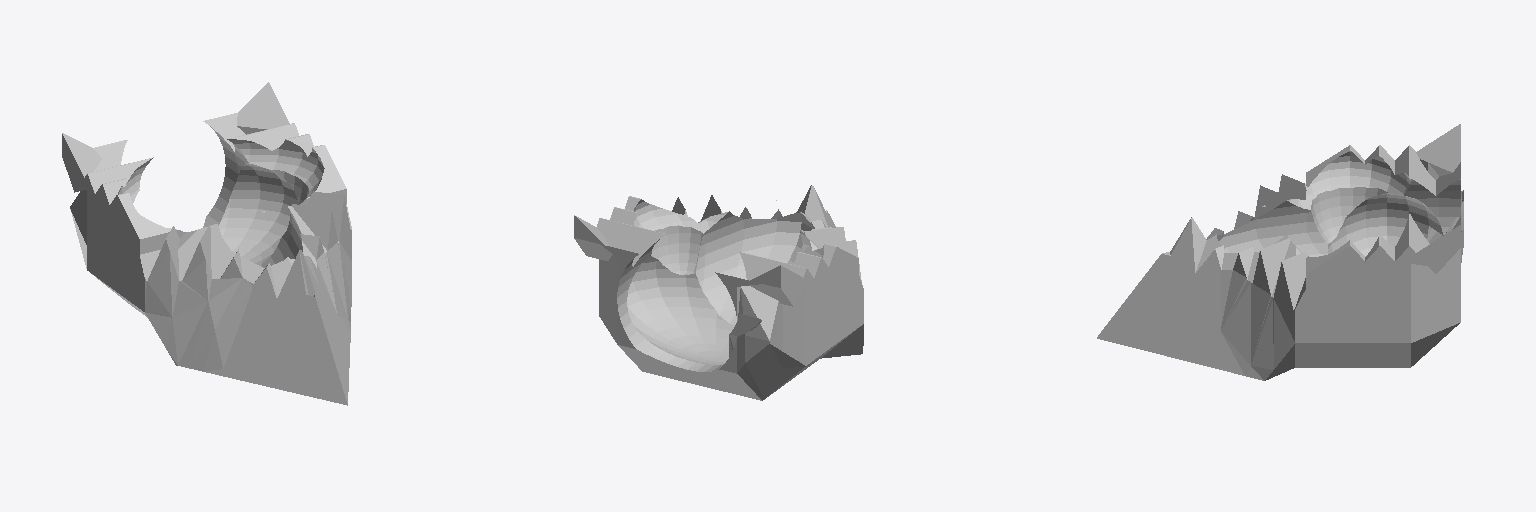
The model's file is e_head2.obj.
3 renders of one model, left to right at view 1: azimuth 30°, elevation 25°; view 2: azimuth 150°, elevation 25°; view 3: azimuth 270°, elevation 25°, orthographic.
Parts seen in each view (by area): view 1: e_head2; view 2: e_head2; view 3: e_head2.
Part boxes in pixels (left/top/right/bottom): e_head2: left=62, top=82, right=351, bottom=405; e_head2: left=574, top=185, right=863, bottom=400; e_head2: left=1097, top=124, right=1463, bottom=380.
Bounding box in the file's own units: 1.64 × 1.24 × 2.51.